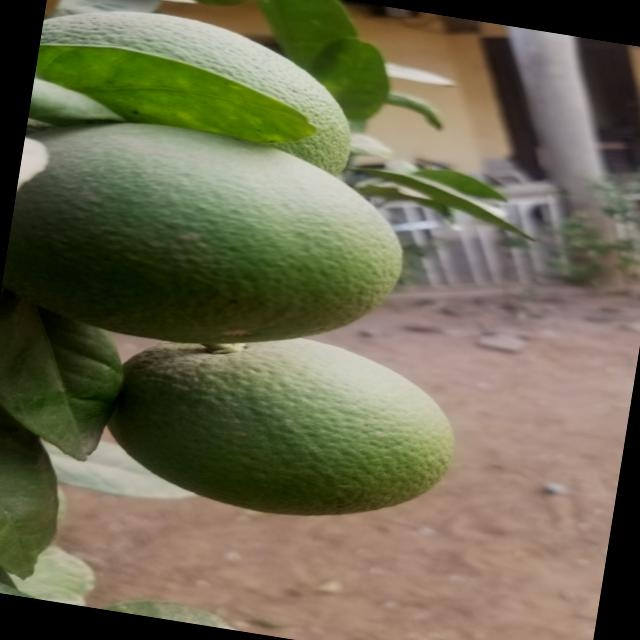agrume: (0, 101, 421, 368), (99, 316, 457, 540), (40, 0, 360, 174)
